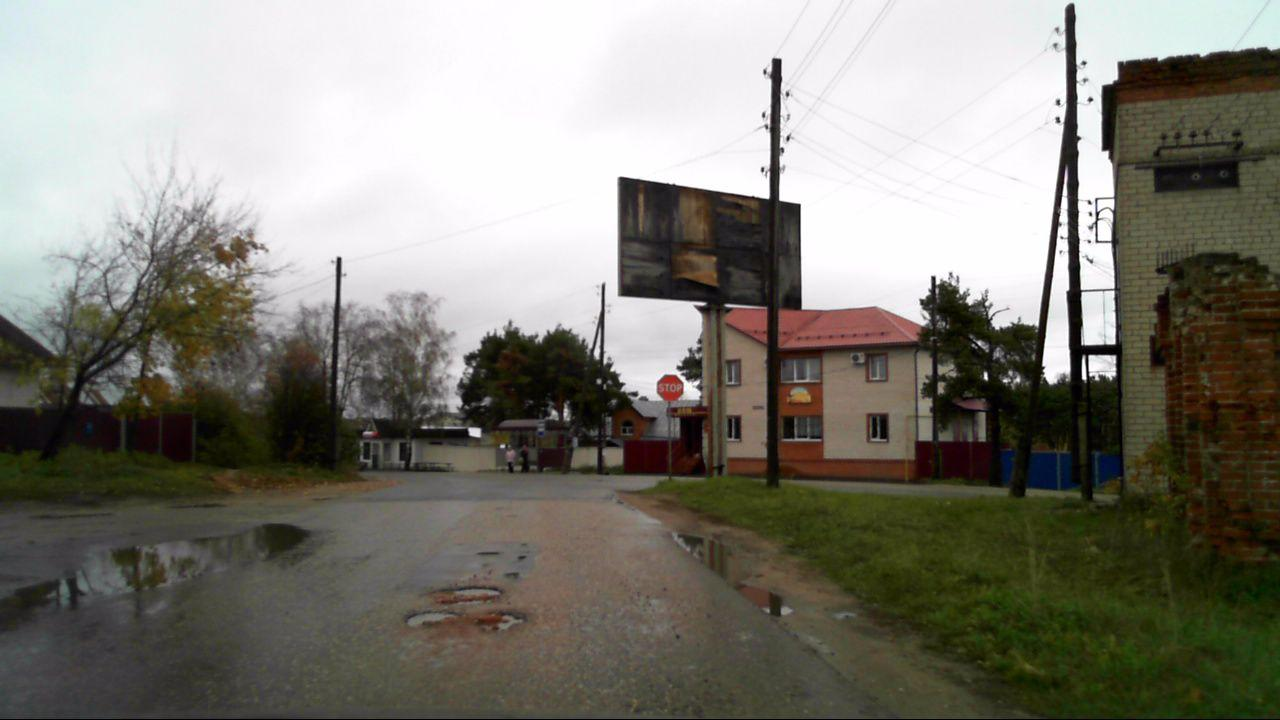pothole: (477, 613, 527, 633), (435, 583, 505, 597), (405, 611, 460, 628)
road_sign: (656, 374, 684, 401)
